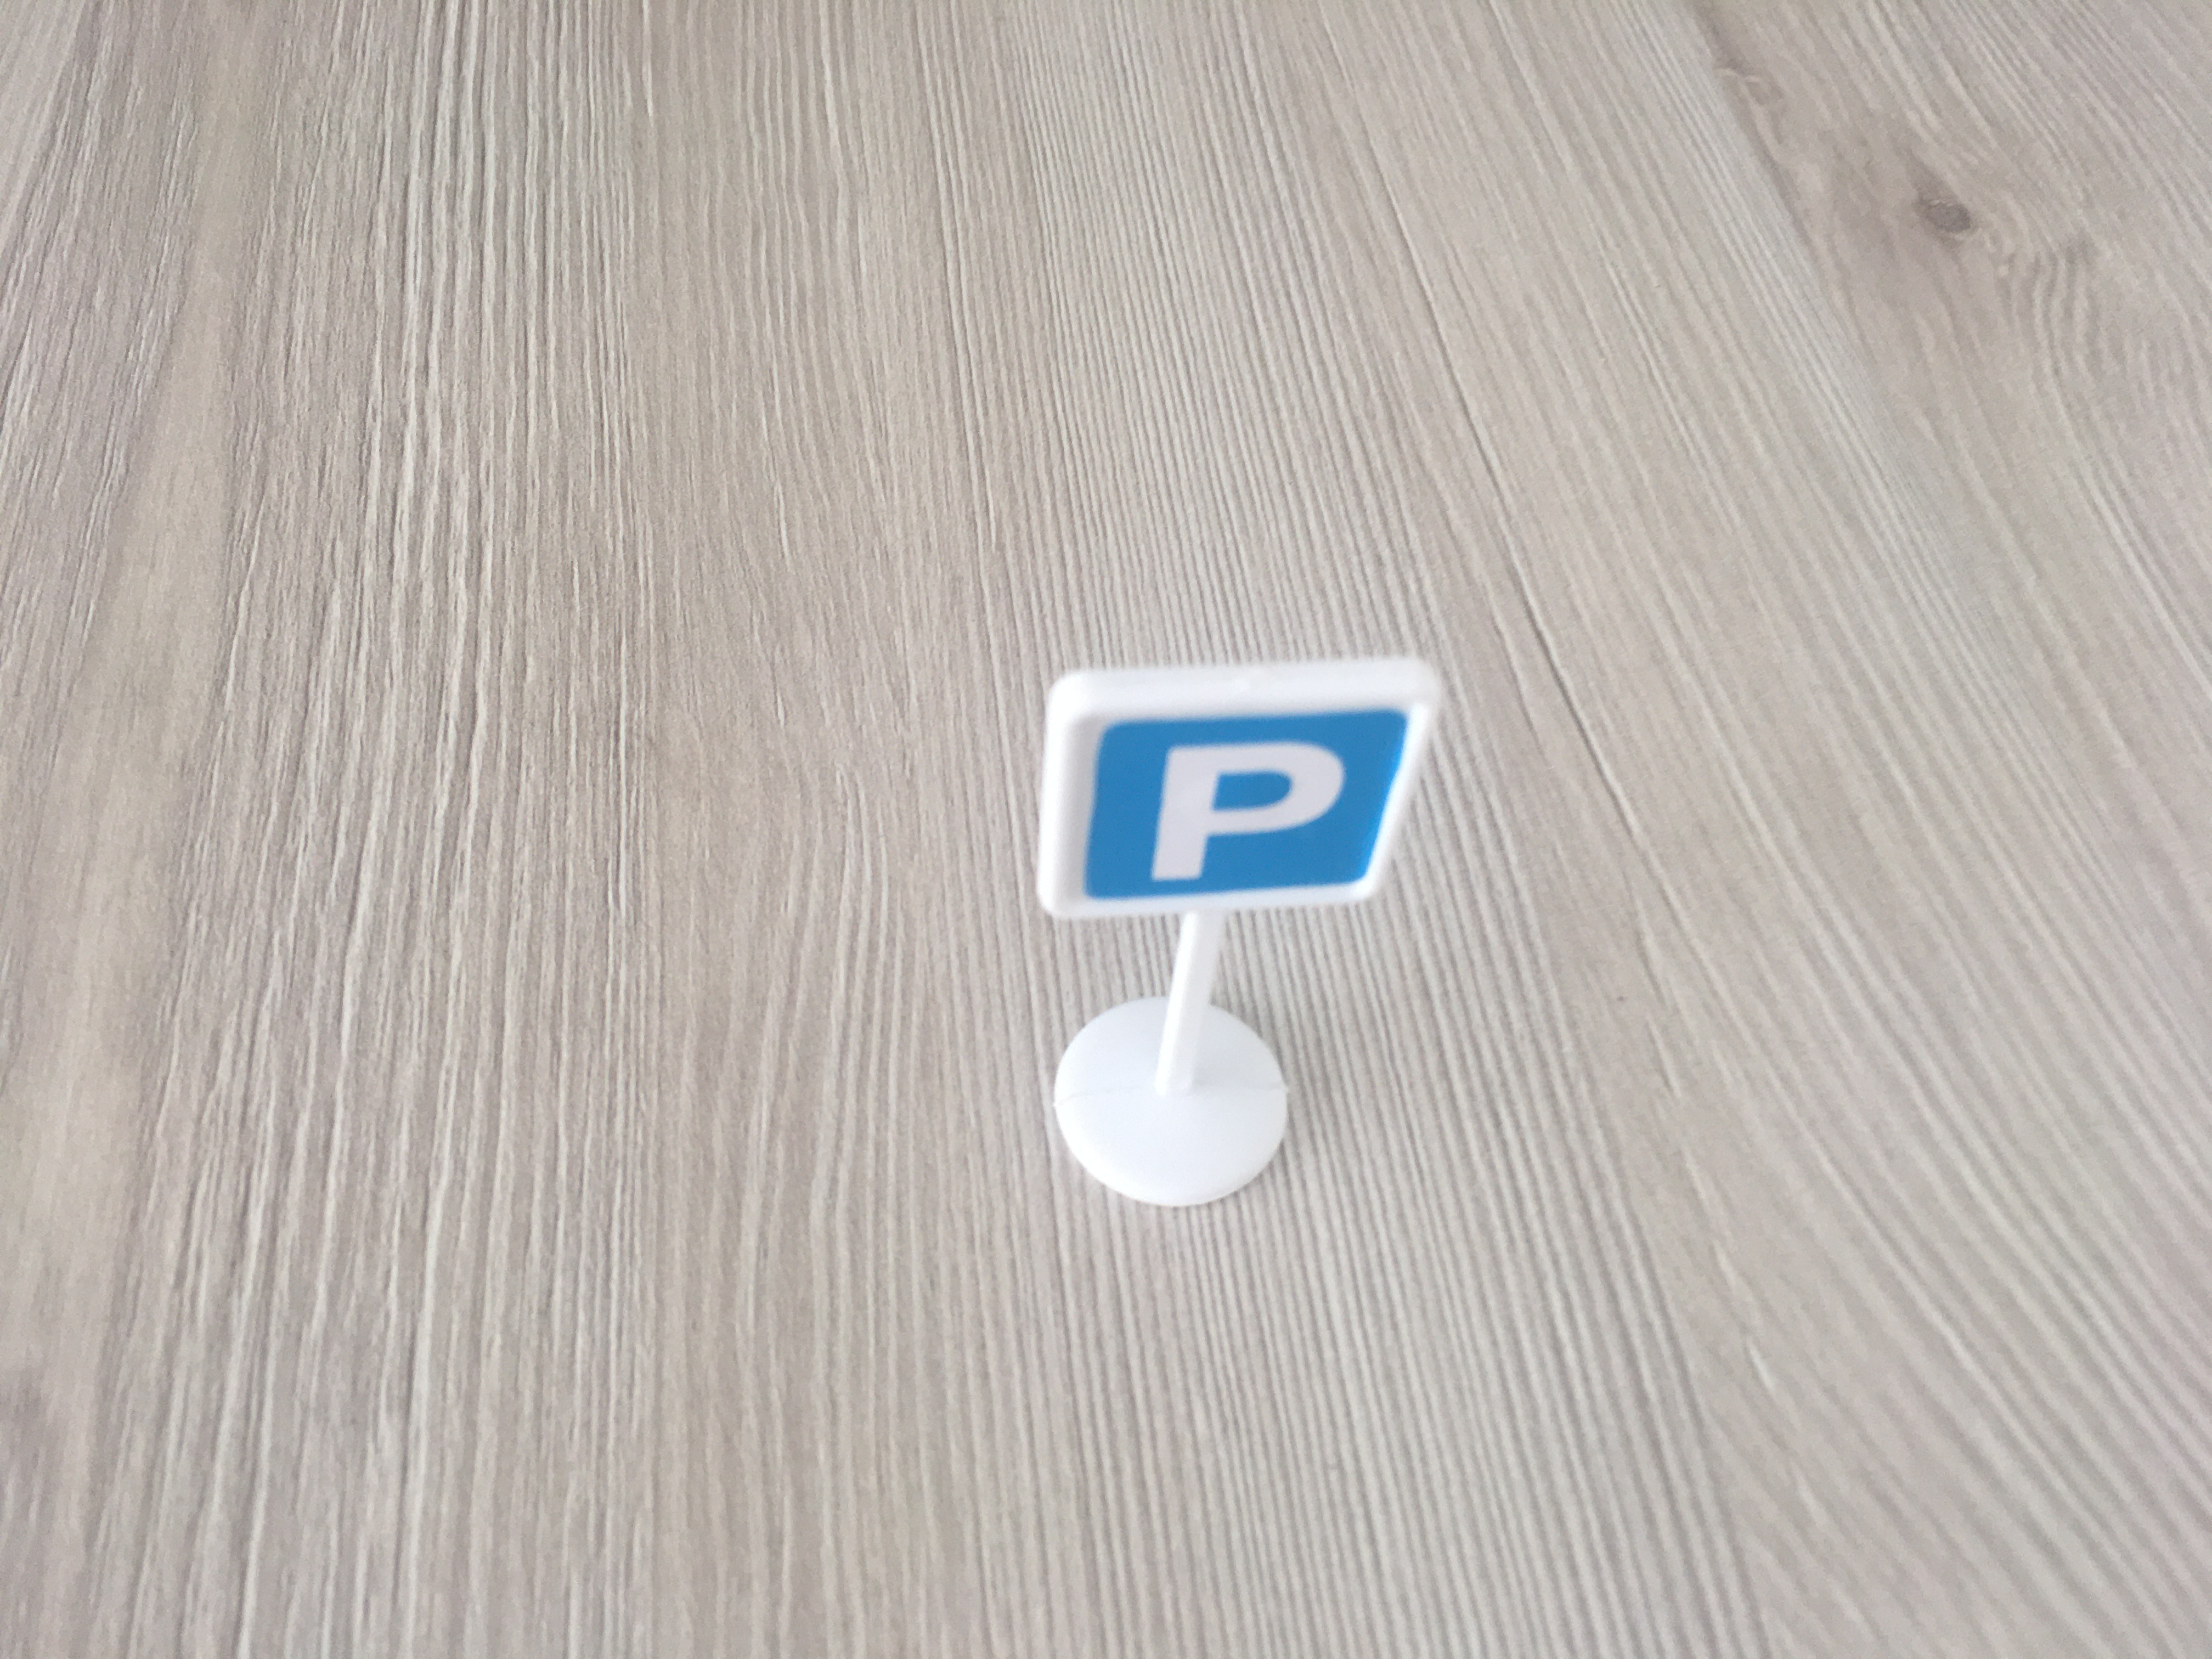parking: (1031, 664, 1435, 943)
